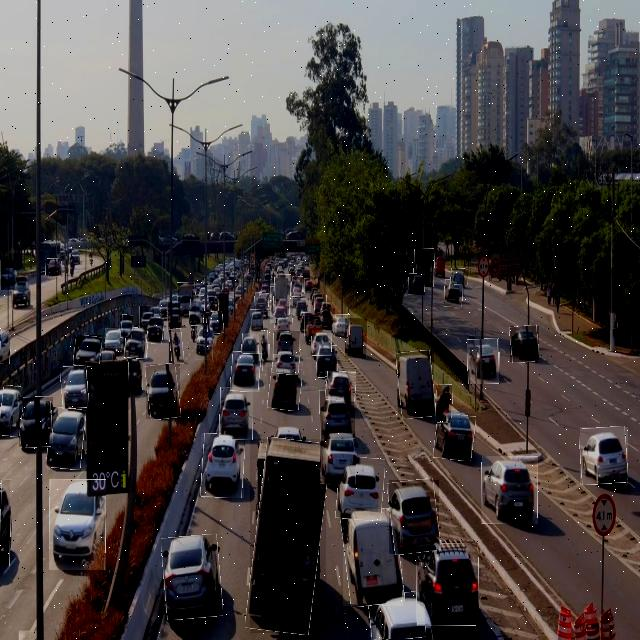Car: (343, 509, 403, 606), (49, 479, 106, 570), (416, 544, 479, 626), (162, 535, 222, 619), (482, 456, 538, 524), (389, 480, 439, 554), (337, 458, 384, 520), (201, 433, 244, 498), (580, 427, 628, 485), (369, 592, 425, 640), (47, 408, 85, 470), (434, 413, 476, 460), (321, 430, 356, 484), (146, 364, 180, 419), (220, 387, 253, 440), (320, 390, 355, 439), (19, 397, 53, 447), (268, 367, 301, 411), (468, 339, 500, 384), (232, 351, 260, 392), (62, 365, 88, 409), (0, 385, 22, 436), (510, 326, 539, 362), (325, 372, 356, 402), (74, 335, 102, 367), (345, 318, 367, 358), (0, 479, 10, 566), (12, 270, 31, 310), (125, 327, 148, 359), (272, 350, 300, 374), (317, 346, 338, 378), (274, 330, 300, 355), (195, 324, 213, 360), (128, 360, 143, 396), (312, 330, 332, 356), (445, 280, 463, 307), (147, 317, 164, 344), (304, 312, 323, 336), (0, 260, 15, 290), (190, 296, 204, 326), (167, 302, 180, 332), (334, 314, 350, 337), (322, 307, 336, 333), (0, 328, 10, 364), (105, 328, 123, 348), (139, 306, 154, 330), (408, 274, 425, 295), (207, 312, 223, 334), (250, 309, 264, 334), (275, 313, 293, 332), (242, 334, 259, 354), (294, 298, 312, 316), (120, 315, 133, 338), (46, 259, 62, 277), (451, 269, 468, 285), (292, 277, 304, 297), (255, 293, 269, 310), (276, 301, 288, 319), (315, 294, 327, 310), (304, 278, 315, 294)
Motorcycle: (436, 385, 452, 423), (170, 329, 183, 364), (262, 330, 270, 371), (270, 286, 276, 323)
Truck: (250, 439, 326, 633), (398, 351, 434, 419), (414, 248, 434, 287), (274, 274, 291, 317), (178, 282, 196, 319)
